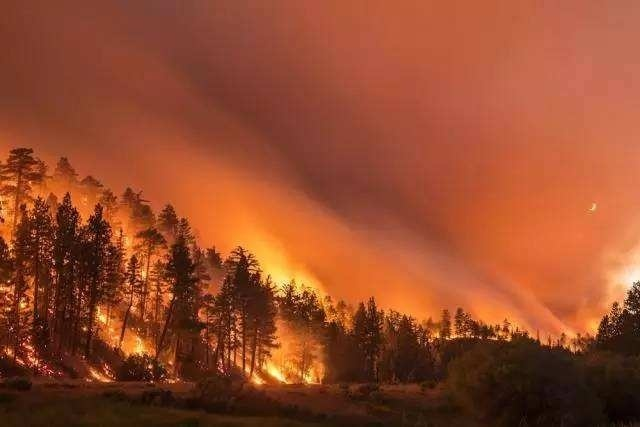fire: (242, 354, 321, 387)
